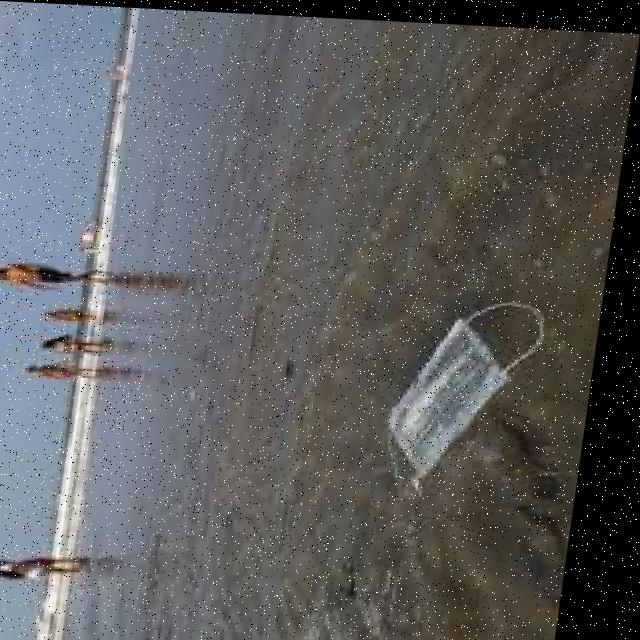mask: (369, 274, 592, 518)
